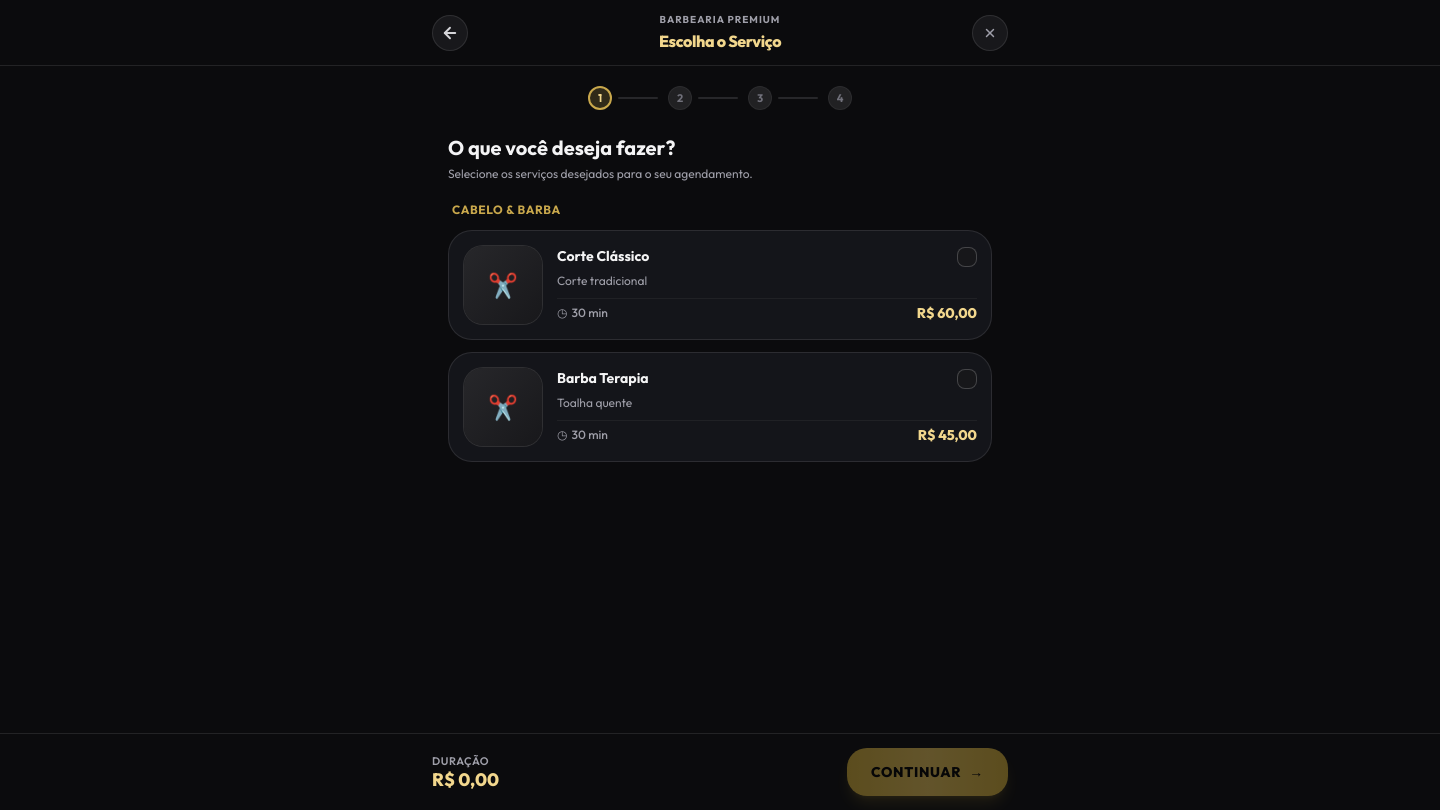
Test case: Agendamento Público 2.0 UI Suite › agrupa horários por turnos: Manhã, Tarde e Noite
Expected: the heading "Corte Clássico" is shown, [557,247,649,266]
Click the checkbox labelled "Corte Clássico": (470, 285) [462,277,478,293]
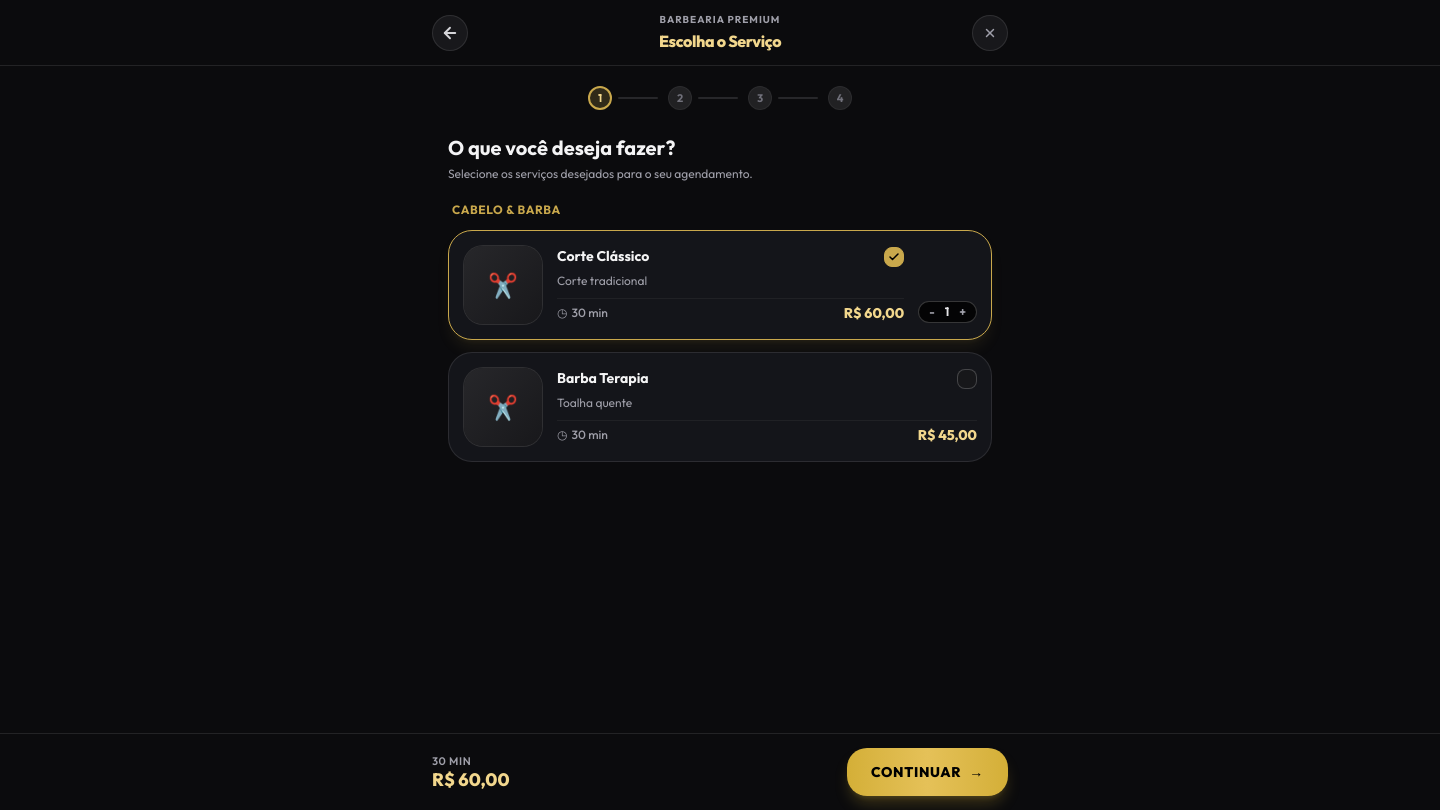
Click the button "Continuar →": (928, 772) [847,748,1008,796]
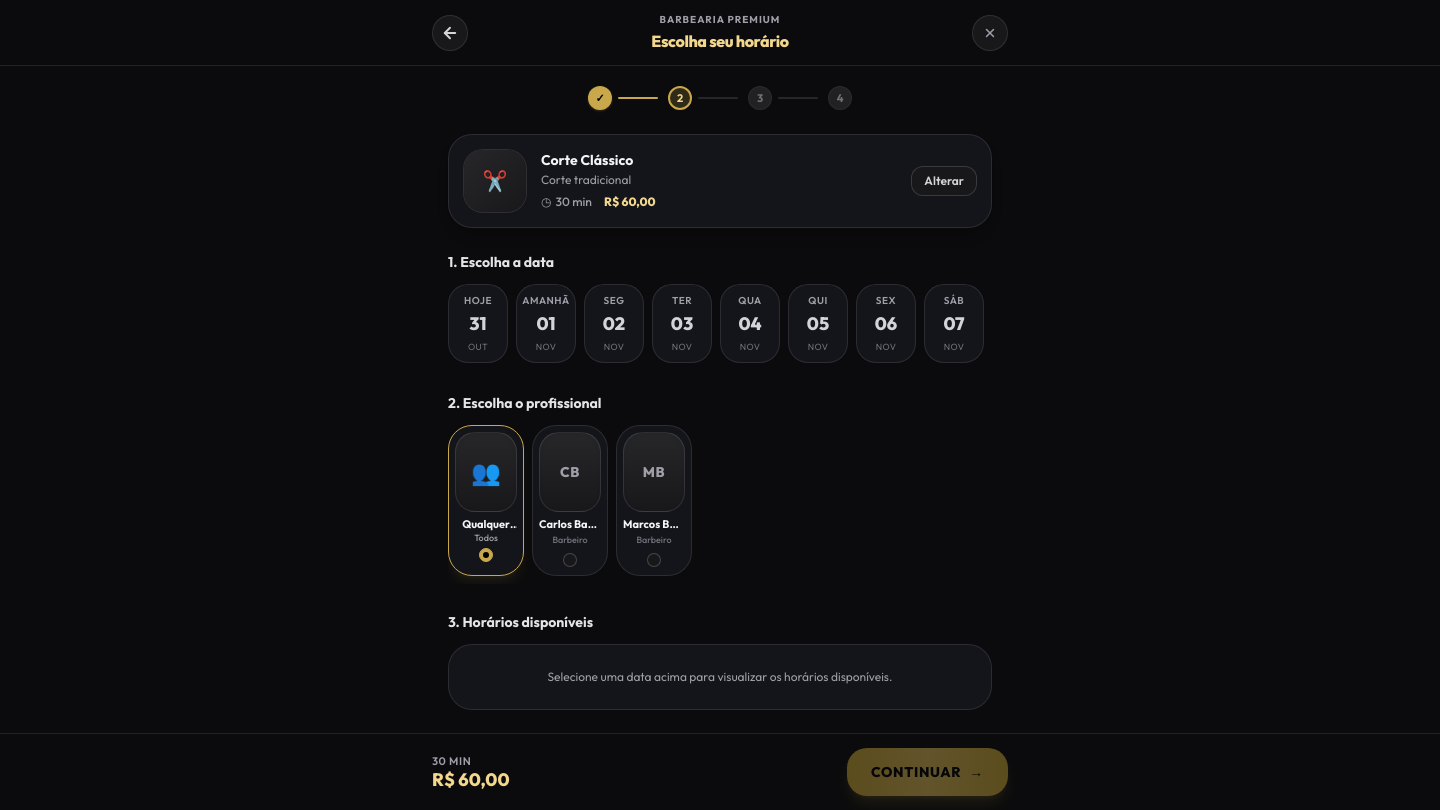
Select date in horizontal date strip
Click the button "Hoje 31 Out": (478, 323) [448,284,508,362]
(page scrolled)
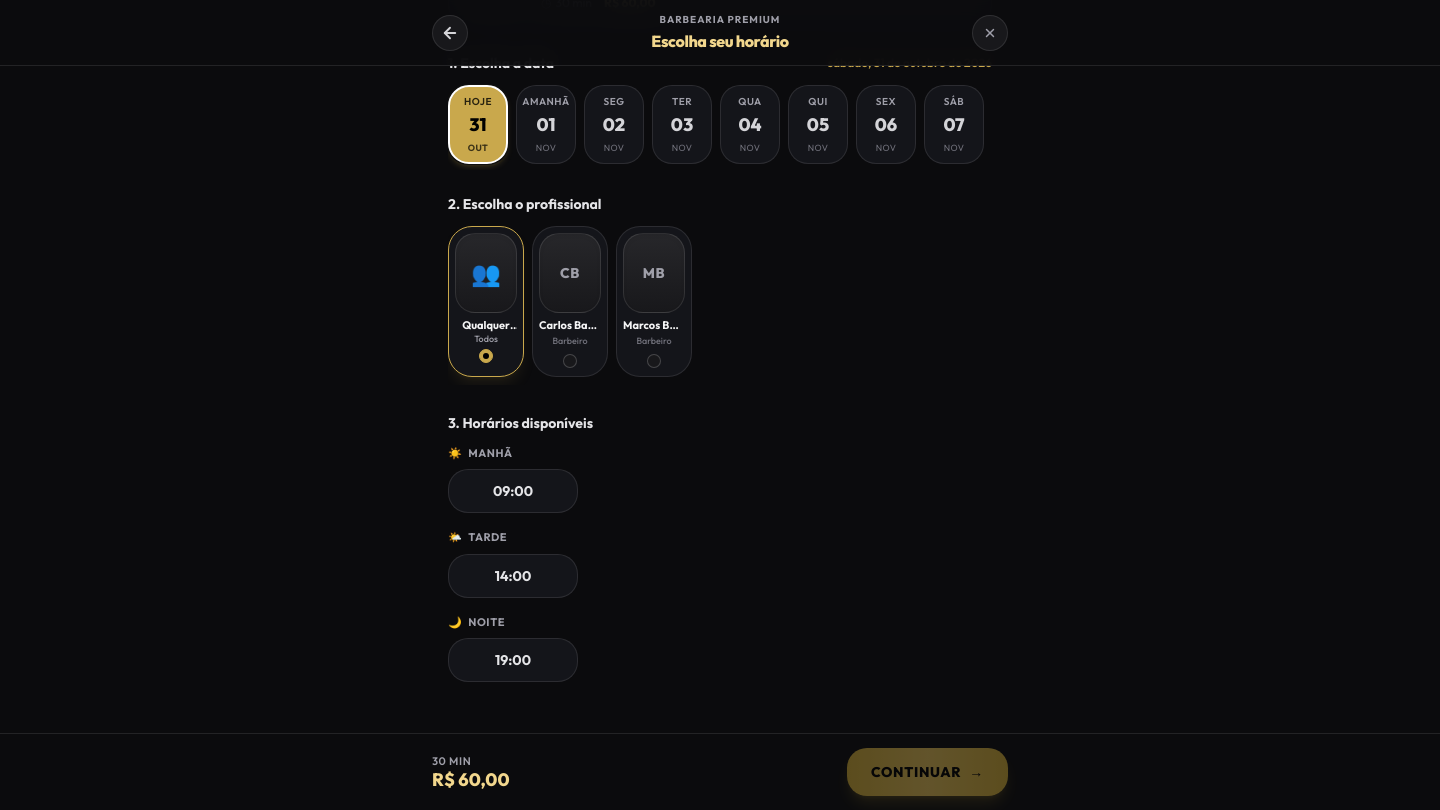
Expected: the text "Manhã" is shown, [468,446,513,460]
Expected: the text "Tarde" is shown, [468,530,507,544]
Expected: the text "Noite" is shown, [468,615,505,629]
